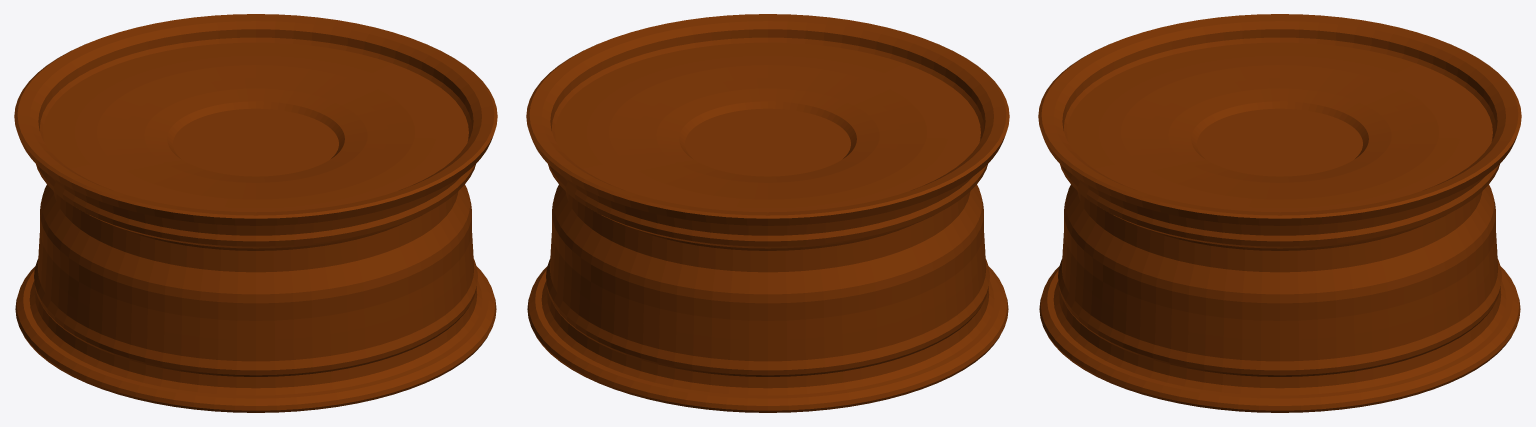
Rendered from Duro_Wheel.obj.
The picture shows the model from 3 angles, left to right: view 1: azimuth 30°, elevation 25°; view 2: azimuth 150°, elevation 25°; view 3: azimuth 270°, elevation 25°; orthographic projection.
Size of the model in its own units: 0.508 by 0.2286 by 0.508.
